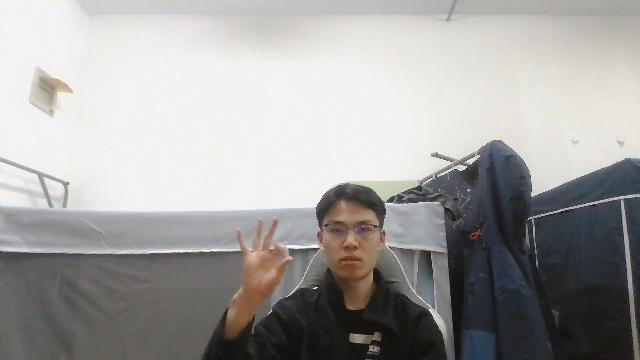ok: (234, 216, 292, 295)
